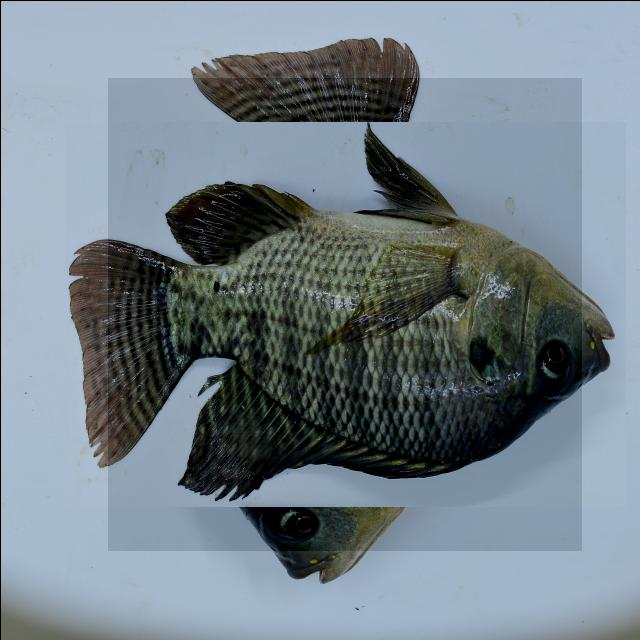Healthy Fish: (107, 77, 581, 550)
